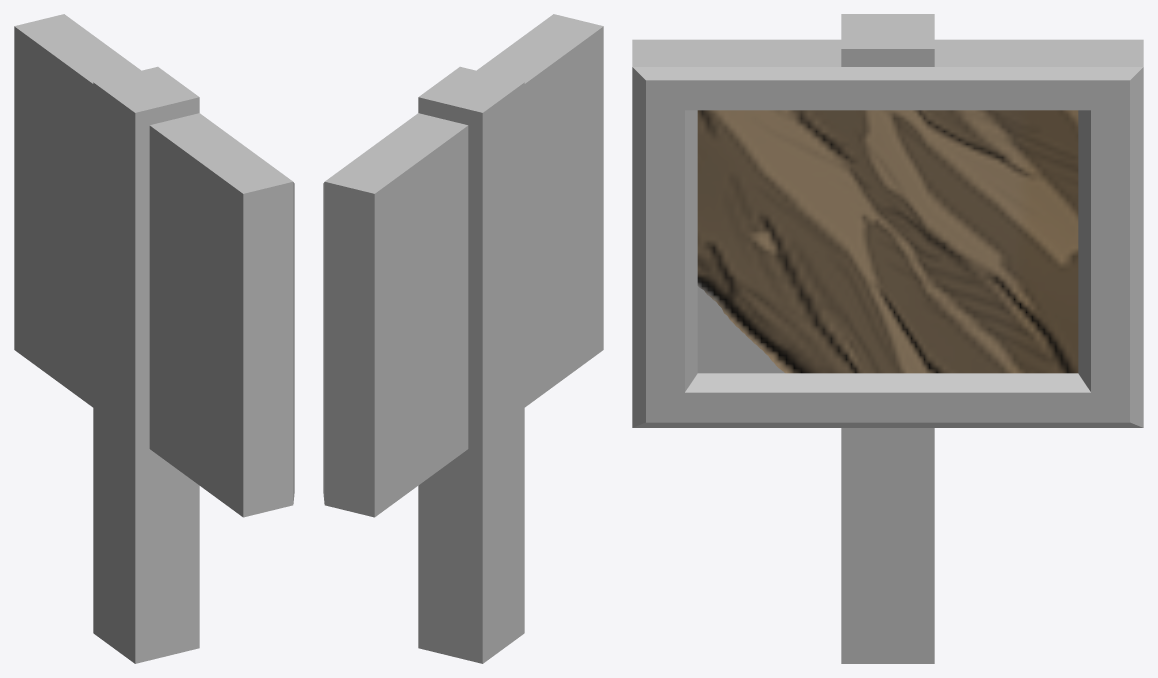
The model's file is BuildingPanel.fbx.
3 views of the same model, side by side, from view 1: azimuth 30°, elevation 25°; view 2: azimuth 150°, elevation 25°; view 3: azimuth 270°, elevation 25° (orthographic). The views are drawn at different scales.
Visible parts, largest first — view 1: Cube.018; view 2: Cube.018; view 3: Cube.018.
Boxes of the visible parts, <box> form: Cube.018: <box>14,14,294,663</box>; Cube.018: <box>323,14,603,663</box>; Cube.018: <box>632,14,1143,663</box>.
Size of the model in its own units: 28.48 by 208 by 157.
